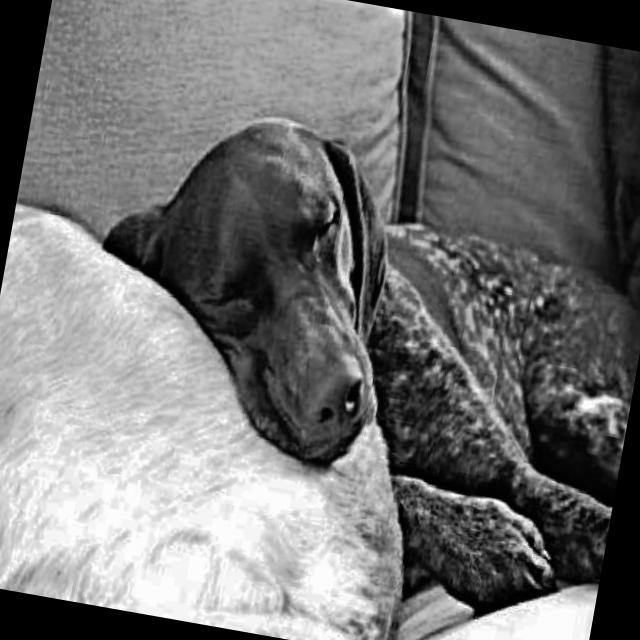Dog: (43, 84, 640, 639)
